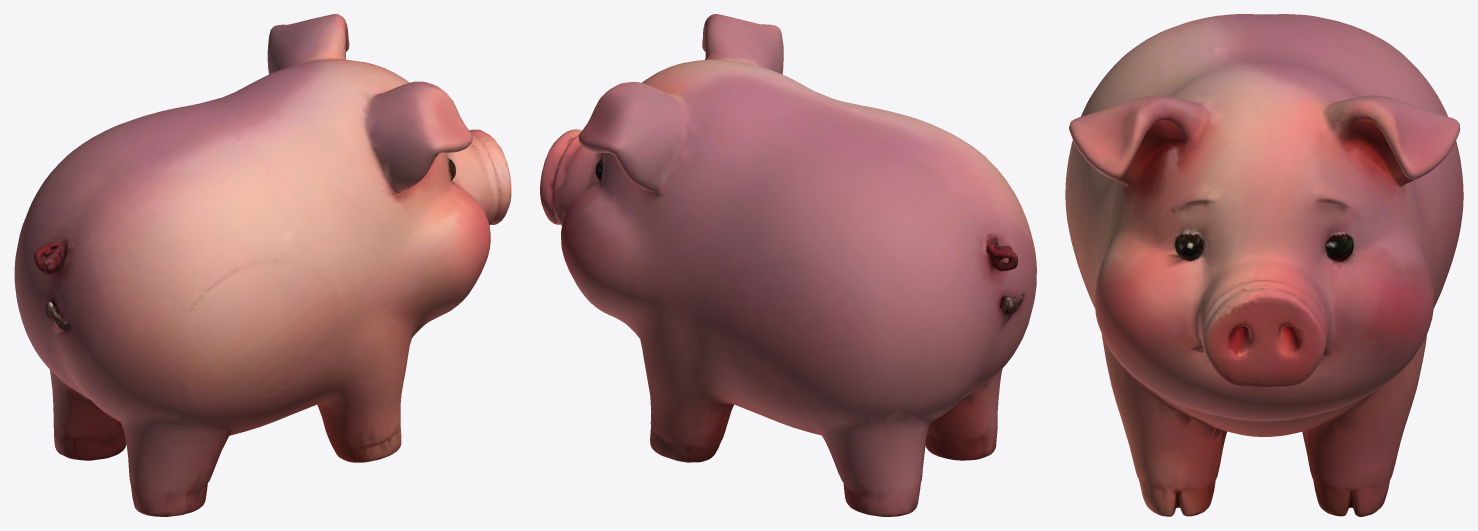
Rendered from pig.glb.
3 views of the same model, side by side, from view 1: azimuth 30°, elevation 25°; view 2: azimuth 150°, elevation 25°; view 3: azimuth 270°, elevation 25° (orthographic). The views are drawn at different scales.
Parts seen in each view (by area): view 1: tripo_node_58233056-311a-48ce-b13d-50287dd99635; view 2: tripo_node_58233056-311a-48ce-b13d-50287dd99635; view 3: tripo_node_58233056-311a-48ce-b13d-50287dd99635.
Boxes of the visible parts, x1=… form: tripo_node_58233056-311a-48ce-b13d-50287dd99635: x1=14, y1=14, x2=511, y2=516; tripo_node_58233056-311a-48ce-b13d-50287dd99635: x1=540, y1=14, x2=1036, y2=516; tripo_node_58233056-311a-48ce-b13d-50287dd99635: x1=1065, y1=14, x2=1463, y2=516.
Size of the model in its own units: 0.9997 by 0.7668 by 0.6339.
Materials: 1 (1 with a texture image).
